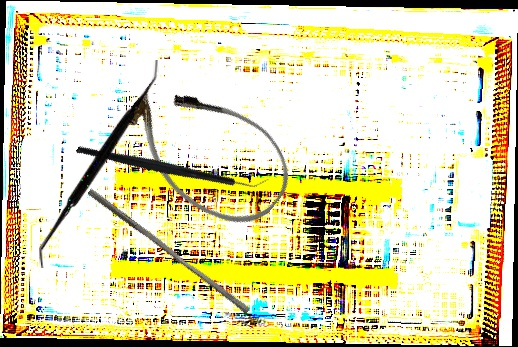Cannula: (106, 55, 309, 246)
Chopper: (75, 83, 270, 248)
Pusher: (82, 188, 255, 315)
Spatula Surgical: (39, 60, 161, 268)
